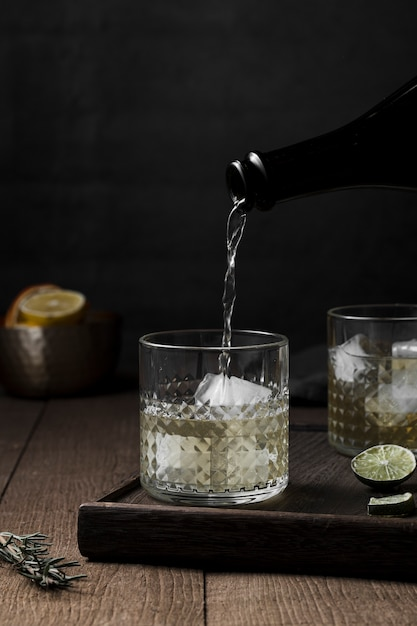alcohol: (136, 331, 290, 502), (230, 78, 417, 213), (322, 306, 417, 460)
